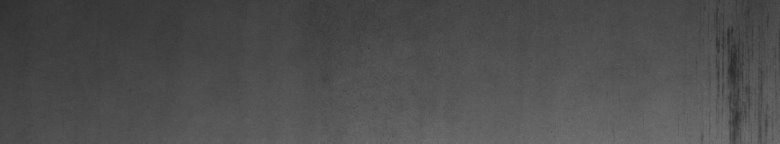ka: (708, 8, 773, 136)
